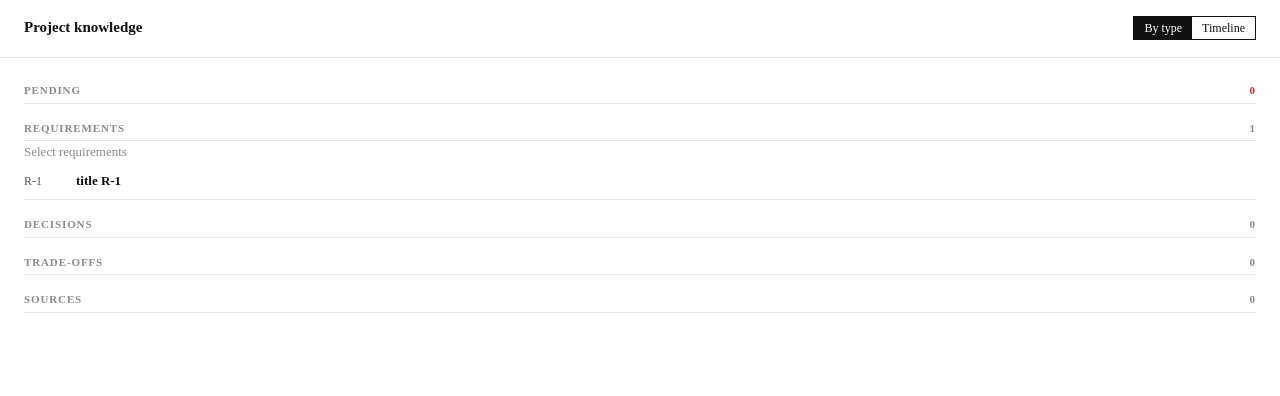
KnowledgePanel › shows the hub error inline when generating fails
Click the button "Select requirements".
click(75, 152)  # box [24,142,127,162]
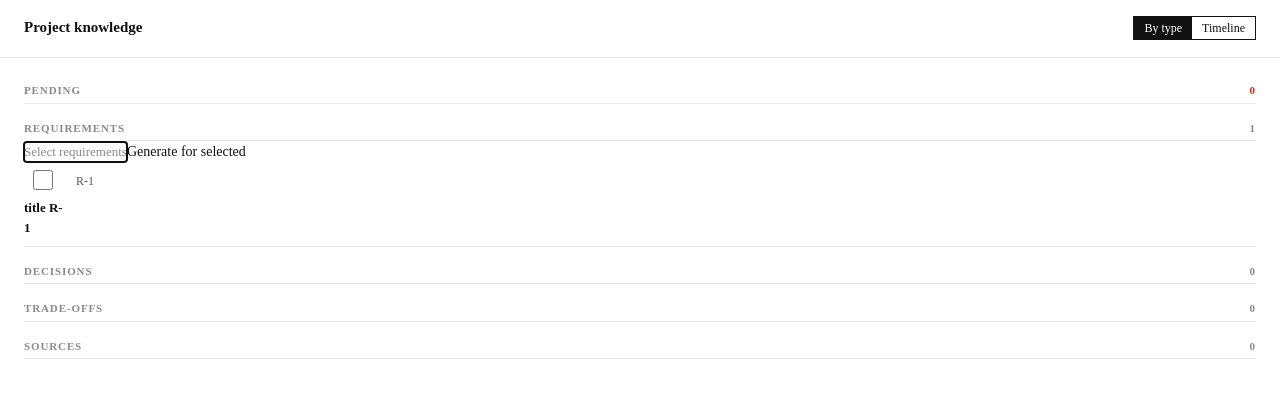
Click the checkbox named "R-1".
click(43, 180)  # box [24,170,62,190]
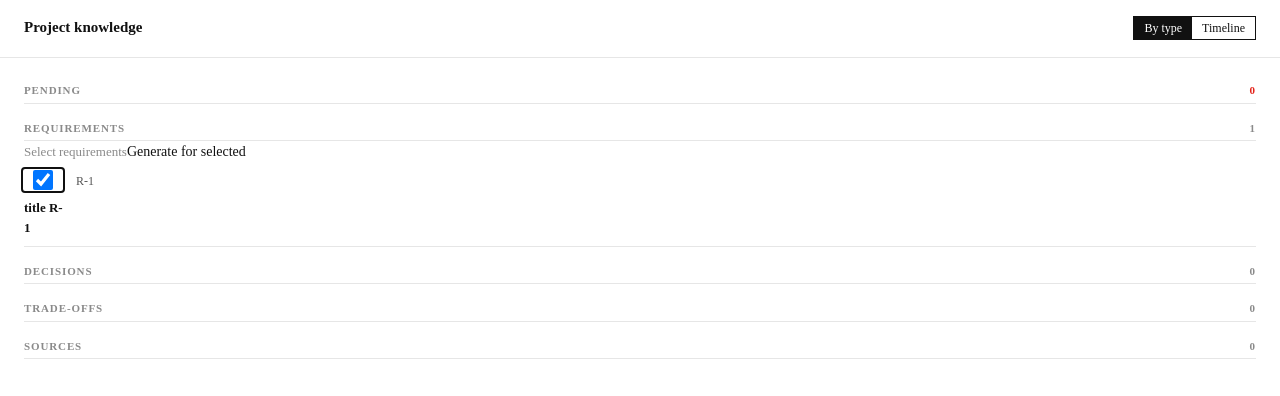
Click the button "Generate for selected".
click(186, 152)  # box [127,141,246,162]
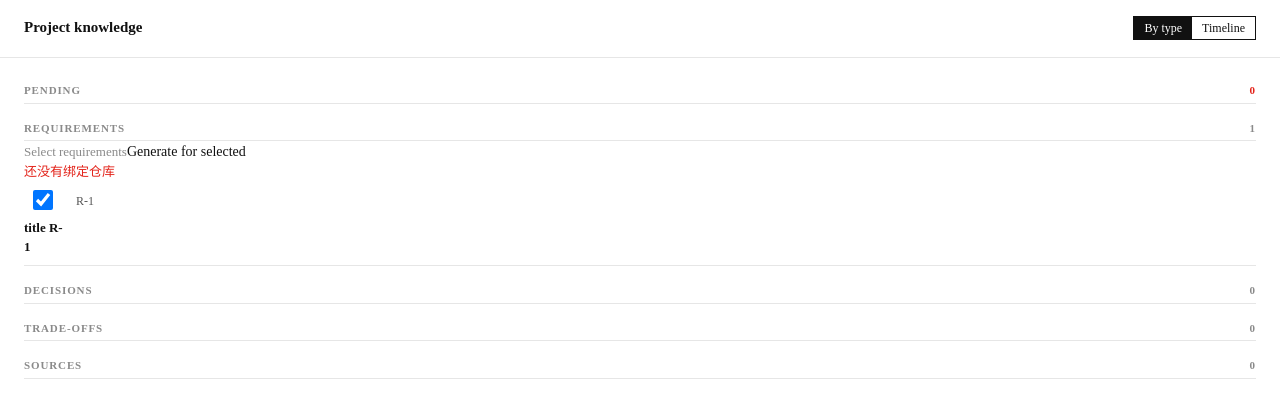
Result: the message reads "还没有绑定仓库" at [24,164,115,179]
